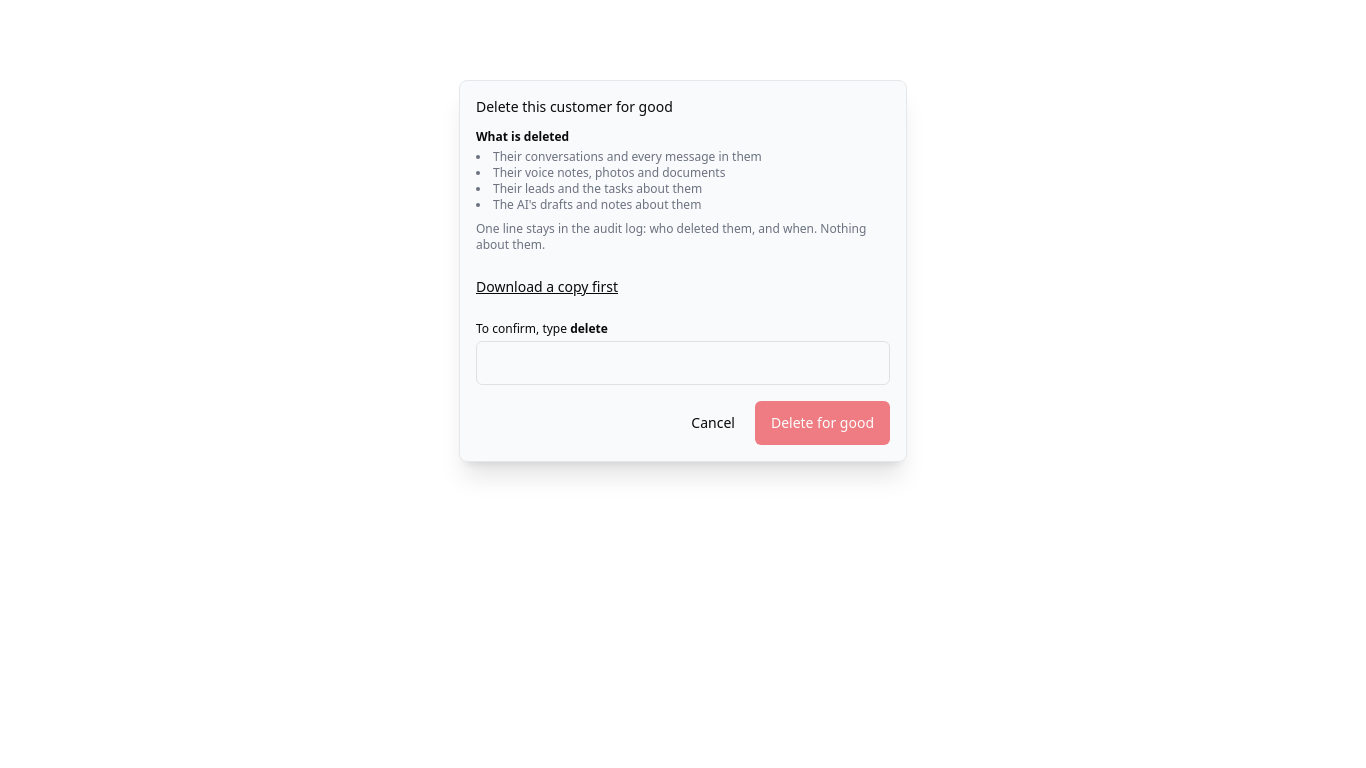
EraseDialog › asks for the word delete when the customer has no name
Type "delete" into the field.
click(683, 363); type("delete")  # box [476,341,890,385]
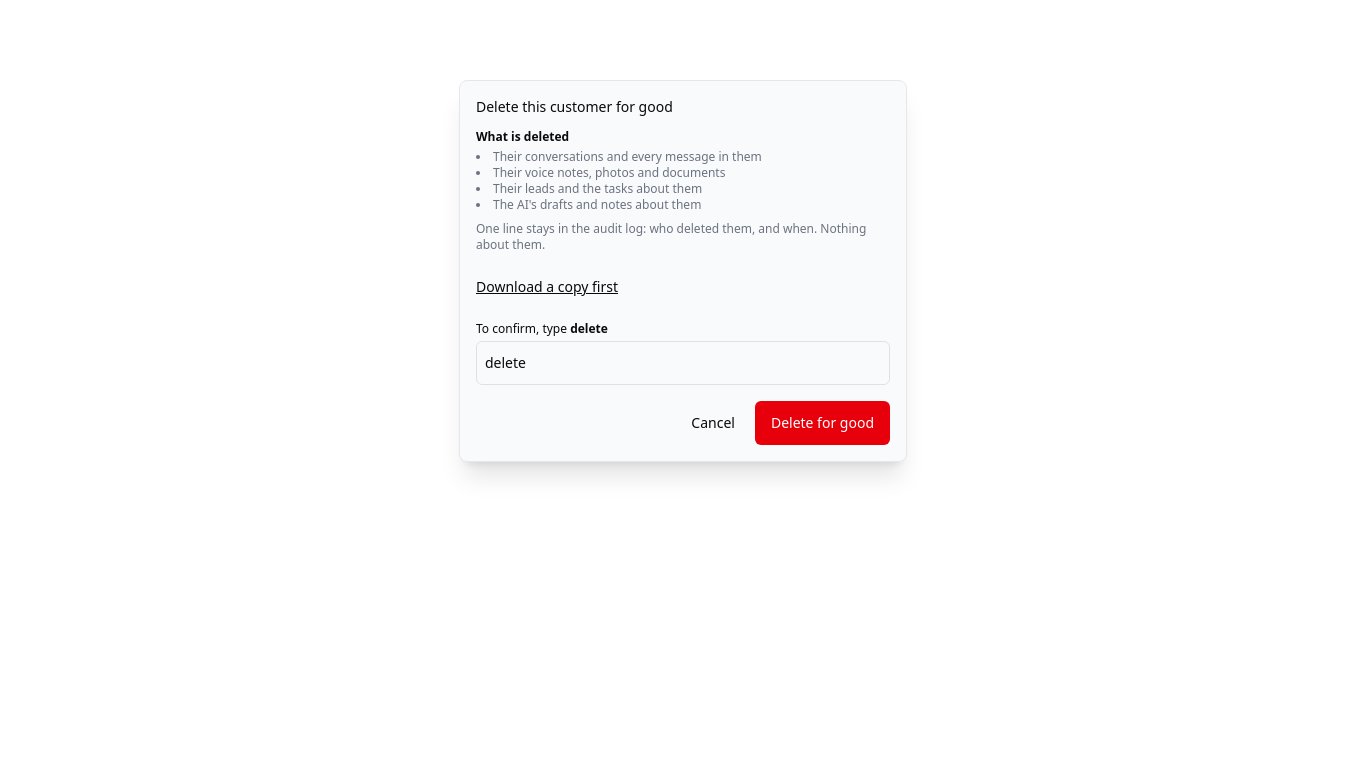
Check: the button "Delete for good" is enabled, box [755,401,890,445]
